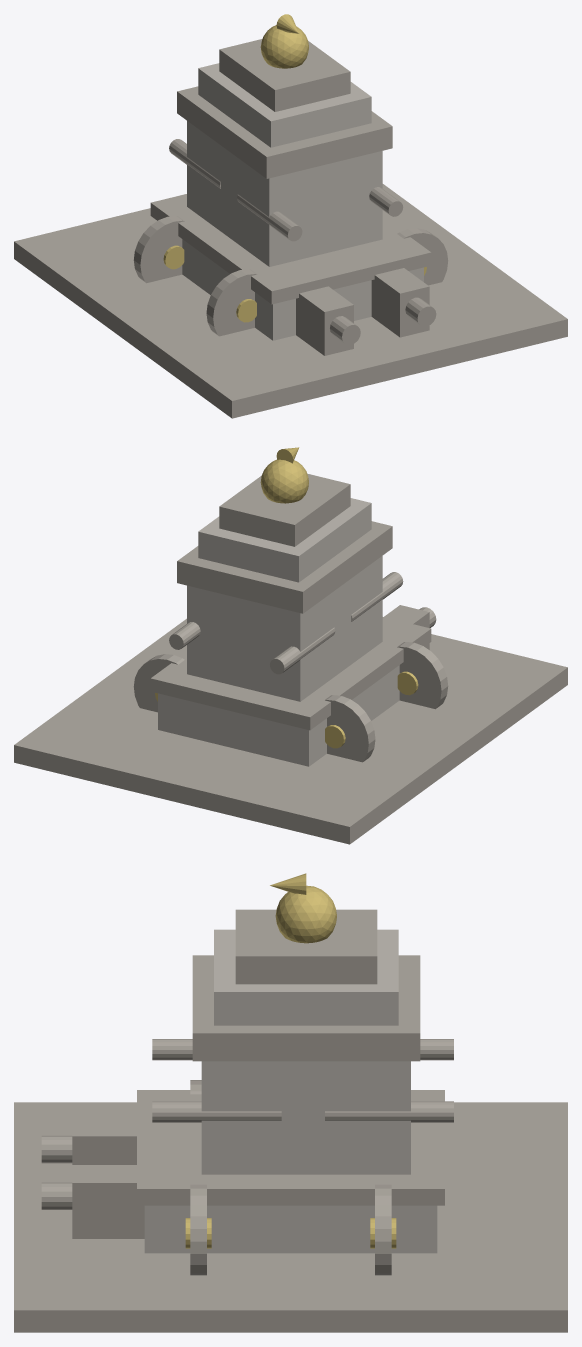
File: hampi-chariot.glb
The picture shows the model from 3 angles, top to bottom: view 1: azimuth 30°, elevation 25°; view 2: azimuth 150°, elevation 25°; view 3: azimuth 270°, elevation 25°; orthographic projection. The views are drawn at different scales.
Visible parts, largest first — view 1: geometry_0, geometry_11, geometry_2, geometry_16, geometry_17, geometry_18, geometry_1, geometry_23, geometry_21, geometry_3, geometry_5, geometry_19 (+6 smaller); view 2: geometry_0, geometry_11, geometry_2, geometry_1, geometry_16, geometry_17, geometry_18, geometry_5, geometry_3, geometry_19, geometry_7, geometry_12 (+3 smaller); view 3: geometry_0, geometry_11, geometry_2, geometry_1, geometry_16, geometry_17, geometry_18, geometry_23, geometry_21, geometry_19, geometry_15, geometry_14 (+6 smaller).
Boxes of the visible parts, <box> form: geometry_0: <box>14,184,567,418</box>; geometry_11: <box>187,121,382,266</box>; geometry_2: <box>150,194,431,304</box>; geometry_16: <box>177,86,392,178</box>; geometry_17: <box>198,63,371,147</box>; geometry_18: <box>219,39,350,111</box>; geometry_1: <box>182,239,423,340</box>; geometry_23: <box>371,268,429,337</box>; geometry_21: <box>296,286,353,355</box>; geometry_3: <box>133,216,184,283</box>; geometry_5: <box>206,269,257,336</box>; geometry_19: <box>260,25,308,68</box>; geometry_0: <box>14,618,567,844</box>; geometry_11: <box>187,556,382,701</box>; geometry_2: <box>150,617,431,730</box>; geometry_1: <box>158,665,399,766</box>; geometry_16: <box>177,521,392,613</box>; geometry_17: <box>198,498,371,582</box>; geometry_18: <box>219,473,350,546</box>; geometry_5: <box>397,642,448,709</box>; geometry_3: <box>325,695,375,762</box>; geometry_19: <box>260,459,308,503</box>; geometry_7: <box>133,654,184,712</box>; geometry_12: <box>270,627,335,674</box>; geometry_0: <box>14,1102,567,1332</box>; geometry_11: <box>201,1061,410,1174</box>; geometry_2: <box>137,1090,444,1205</box>; geometry_1: <box>144,1205,437,1253</box>; geometry_16: <box>192,955,420,1061</box>; geometry_17: <box>214,929,398,1025</box>; geometry_18: <box>235,909,377,984</box>; geometry_23: <box>72,1165,144,1238</box>; geometry_21: <box>72,1118,136,1164</box>; geometry_19: <box>275,885,336,943</box>; geometry_15: <box>152,1101,281,1122</box>; geometry_14: <box>325,1101,453,1122</box>.
Size of the model in its own units: 16 by 12.7 by 18.
